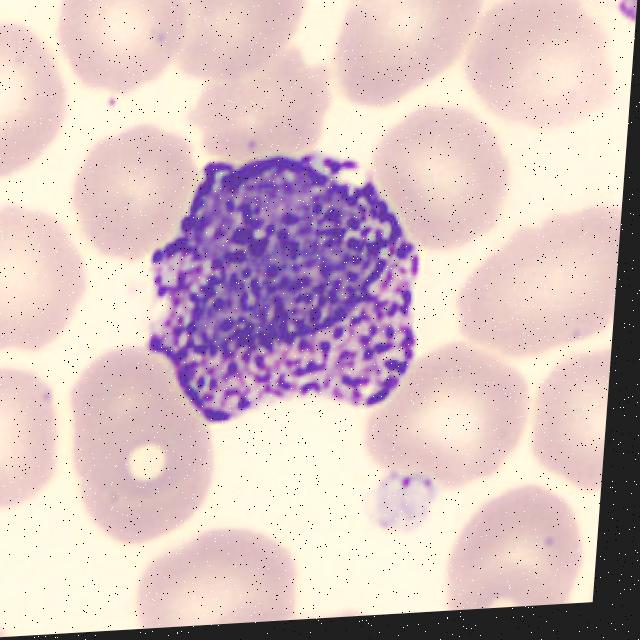basophil: (129, 139, 454, 435)
rbc: (447, 198, 623, 357), (367, 345, 535, 489), (65, 349, 220, 505), (366, 103, 515, 258), (69, 416, 220, 559), (185, 40, 339, 176), (468, 0, 620, 137), (124, 527, 323, 630), (330, 0, 493, 125), (68, 126, 206, 265), (435, 493, 588, 611), (508, 351, 611, 502), (0, 211, 95, 366), (154, 0, 309, 93), (52, 0, 190, 99), (0, 26, 71, 188), (0, 362, 76, 508), (429, 553, 583, 612), (302, 0, 423, 19), (0, 509, 5, 605), (0, 615, 8, 640)
